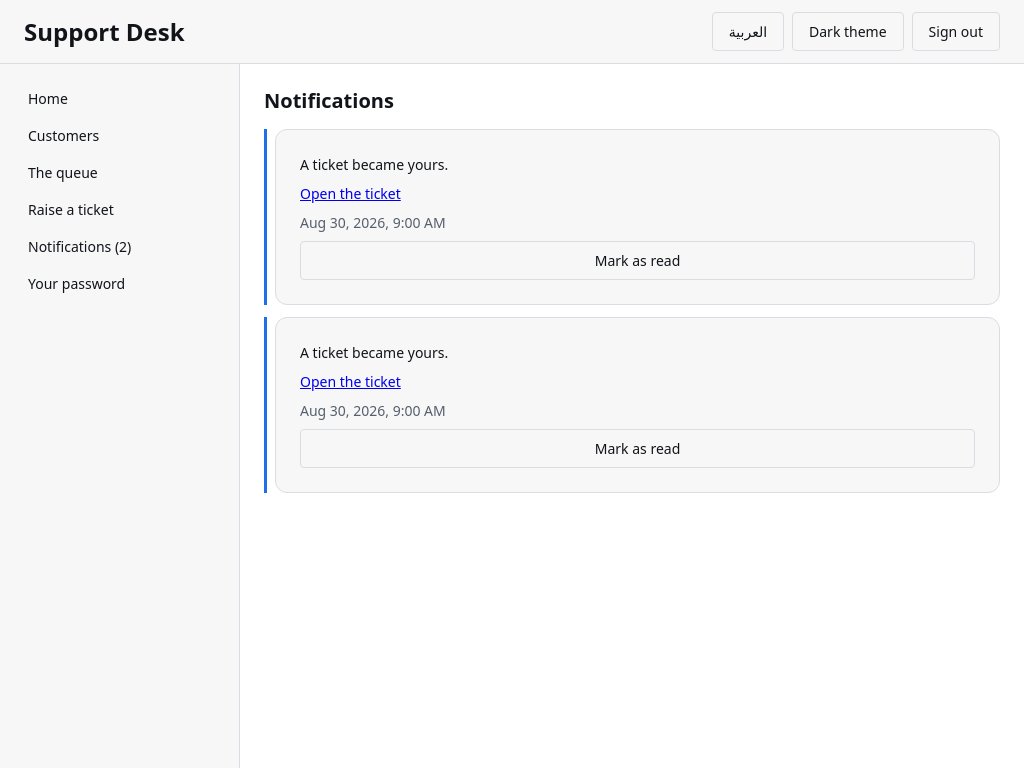
Test case: marking one read updates the row and the shell, without asking again
Click the 1st button "Mark as read": click(638, 260) top-left (300, 241), bottom-right (975, 280)
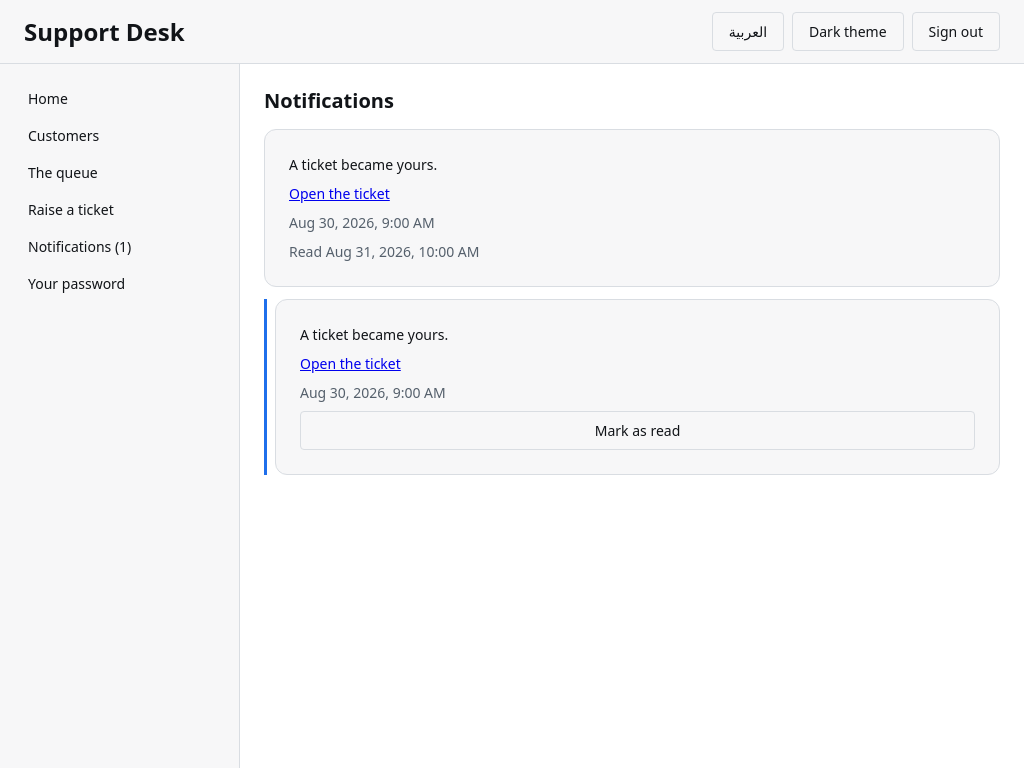
Now the text "Read Aug 31, 2026, 10:00 AM" is shown, box top-left (289, 242), bottom-right (480, 261)
